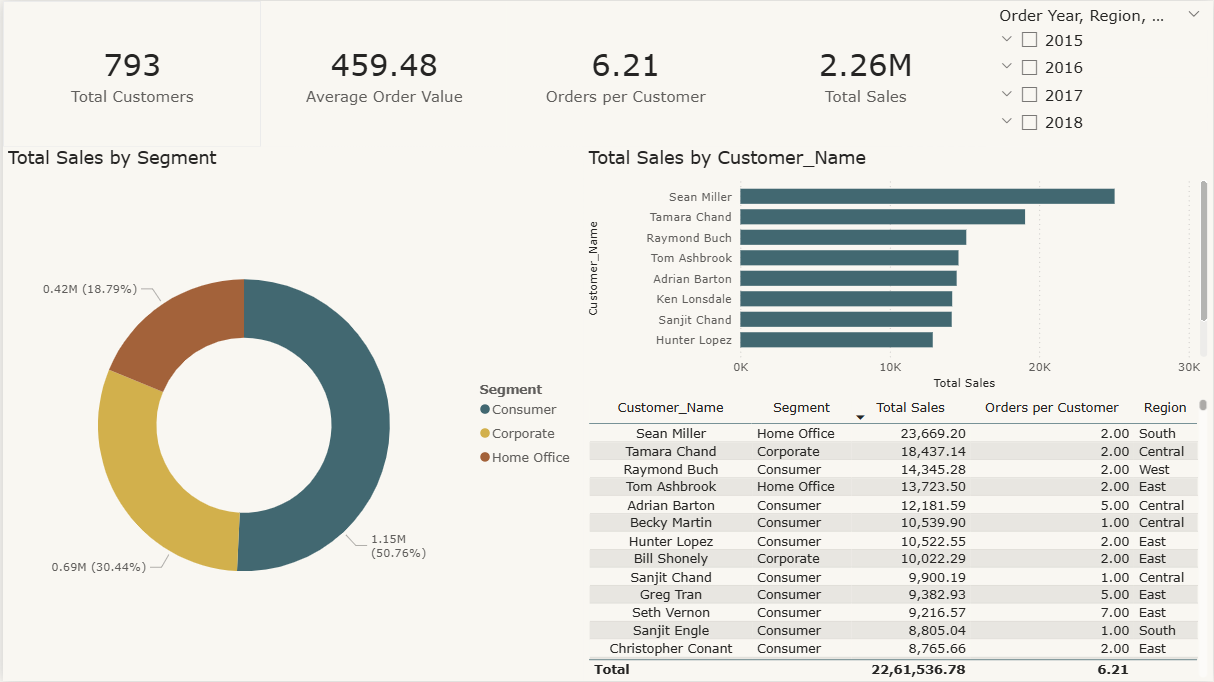

Layout of this report page (visuals, bound fields, positions):
{"tool":"powerbi","page":{"name":"Customer Analytics","canvas":[1280,720],"ordinal":2},"visuals":[{"type":"card","fields":{"Values":["Sales.Total Customers"]},"box":[0,0,273,154],"z":0},{"type":"card","fields":{"Values":["Sales.Total Sales"]},"box":[784.1,0,257.1,154],"z":1000},{"type":"card","fields":{"Values":["Calendar.Orders per Customer"]},"box":[533.3,0,250.8,154],"z":2000},{"type":"card","fields":{"Values":["Sales.Average Order Value"]},"box":[273,0,260.3,154],"z":3000},{"type":"donutChart","fields":{"Category":["Sales.Segment"],"Y":["Sales.Total Sales"]},"box":[0,154,614.3,566.7],"z":4000},{"type":"clusteredBarChart","fields":{"Category":["Sales.Customer_Name"],"Y":["Sales.Total Sales"]},"box":[614.3,154,665.1,261.9],"z":5000},{"type":"tableEx","fields":{"Values":["Sales.Customer_Name","Sales.Segment","Sales.Total Sales","Calendar.Orders per Customer","Sales.Region"]},"box":[614.3,415.9,665.1,304.8],"z":6000},{"type":"slicer","fields":{"Values":["Sales.Order Year","Sales.Region","Sales.Segment"]},"box":[1041,0,238,154],"z":7000}]}

Visuals, with their boxes in screenshot pixels (x1, y1, x2, y2), scaled from the page's 1280x720 canvas onto the 1214x682 screenshot:
card - Sales.Total Customers: {"left": 0, "top": 0, "right": 259, "bottom": 146}
card - Sales.Total Sales: {"left": 744, "top": 0, "right": 988, "bottom": 146}
card - Calendar.Orders per Customer: {"left": 506, "top": 0, "right": 744, "bottom": 146}
card - Sales.Average Order Value: {"left": 259, "top": 0, "right": 506, "bottom": 146}
donutChart - Sales.Segment x Sales.Total Sales: {"left": 0, "top": 146, "right": 583, "bottom": 681}
clusteredBarChart - Sales.Customer_Name x Sales.Total Sales: {"left": 583, "top": 146, "right": 1213, "bottom": 394}
tableEx - Sales.Customer_Name x Sales.Segment: {"left": 583, "top": 394, "right": 1213, "bottom": 681}
slicer - Sales.Order Year x Sales.Region: {"left": 987, "top": 0, "right": 1213, "bottom": 146}
